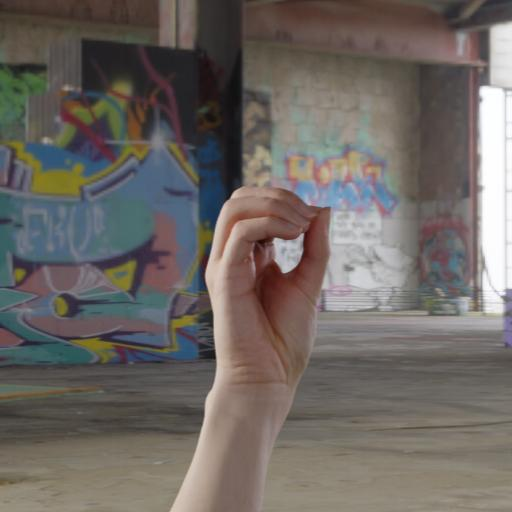O: (173, 169, 349, 492)
